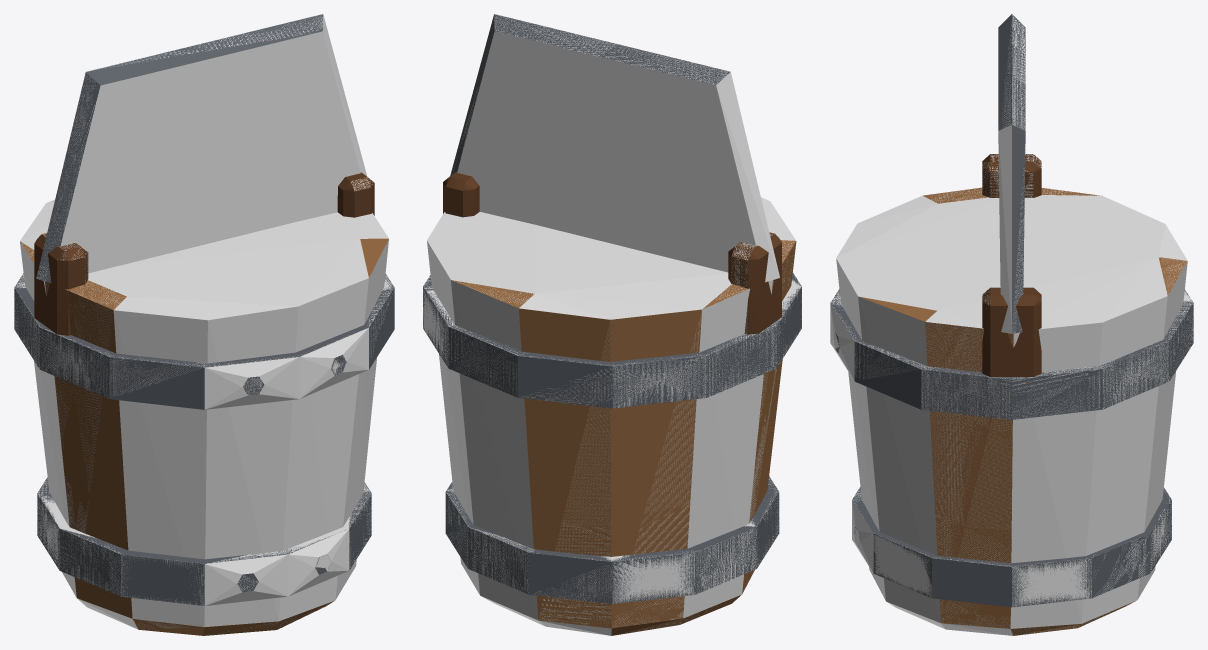
File: smith_bucket.glb
3 renders of one model, left to right at view 1: azimuth 30°, elevation 25°; view 2: azimuth 150°, elevation 25°; view 3: azimuth 270°, elevation 25°, orthographic. The views are drawn at different scales.
Visible parts, largest first — view 1: COL_smith_bucket_00, COL_smith_bucket_05, body, hoop_high, COL_smith_bucket_02, COL_smith_bucket_01, hoop_low, bail, ear_left, ear_right; view 2: COL_smith_bucket_00, COL_smith_bucket_05, body, hoop_high, hoop_low, COL_smith_bucket_01, COL_smith_bucket_02, bail, ear_left, ear_right; view 3: COL_smith_bucket_00, body, hoop_high, hoop_low, COL_smith_bucket_01, COL_smith_bucket_02, bail, ear_right, COL_smith_bucket_05, ear_left, COL_smith_bucket_04.
Part boxes in pixels (box(x1,y1,x2,y2)): COL_smith_bucket_00: box(20, 199, 388, 634); COL_smith_bucket_05: box(36, 15, 367, 281); body: box(20, 238, 388, 635); hoop_high: box(14, 273, 394, 409); COL_smith_bucket_02: box(14, 274, 393, 409); COL_smith_bucket_01: box(37, 478, 371, 605); hoop_low: box(37, 477, 371, 605); bail: box(36, 14, 323, 282); ear_left: box(34, 233, 88, 335); ear_right: box(337, 172, 374, 217); COL_smith_bucket_00: box(427, 197, 796, 635); COL_smith_bucket_05: box(451, 14, 779, 282); body: box(451, 240, 796, 635); hoop_high: box(423, 273, 801, 408); hoop_low: box(445, 476, 779, 603); COL_smith_bucket_01: box(446, 478, 779, 603); COL_smith_bucket_02: box(423, 272, 801, 407); bail: box(450, 14, 730, 175); ear_left: box(728, 232, 781, 334); ear_right: box(443, 172, 479, 217); COL_smith_bucket_00: box(836, 188, 1187, 635); body: box(859, 187, 1187, 635); hoop_high: box(830, 289, 1193, 419); hoop_low: box(852, 487, 1171, 607); COL_smith_bucket_01: box(852, 488, 1171, 606); COL_smith_bucket_02: box(830, 290, 1193, 419); bail: box(998, 14, 1025, 333); ear_right: box(982, 287, 1041, 376); COL_smith_bucket_05: box(998, 15, 1025, 333); ear_left: box(982, 154, 1041, 197); COL_smith_bucket_04: box(982, 154, 1041, 197).
Size of the model in its own units: 0.3765 by 0.5738 by 0.3683.
